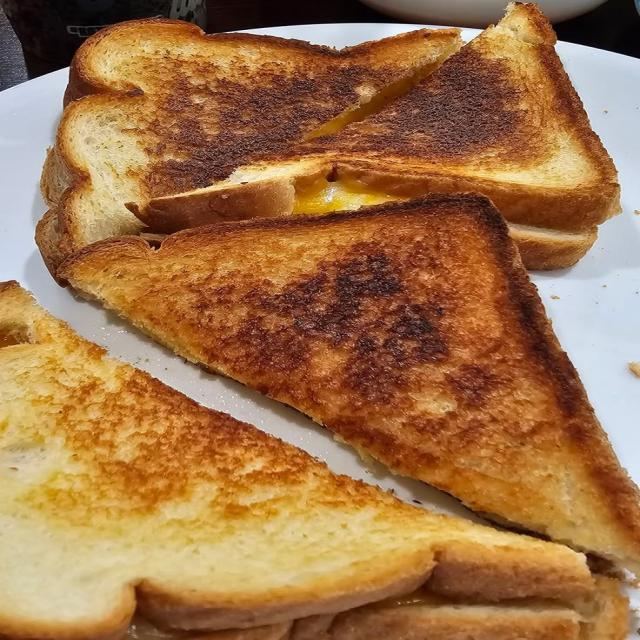toast bread: (0, 283, 626, 639), (61, 195, 639, 572), (134, 3, 619, 268), (37, 20, 460, 272)
